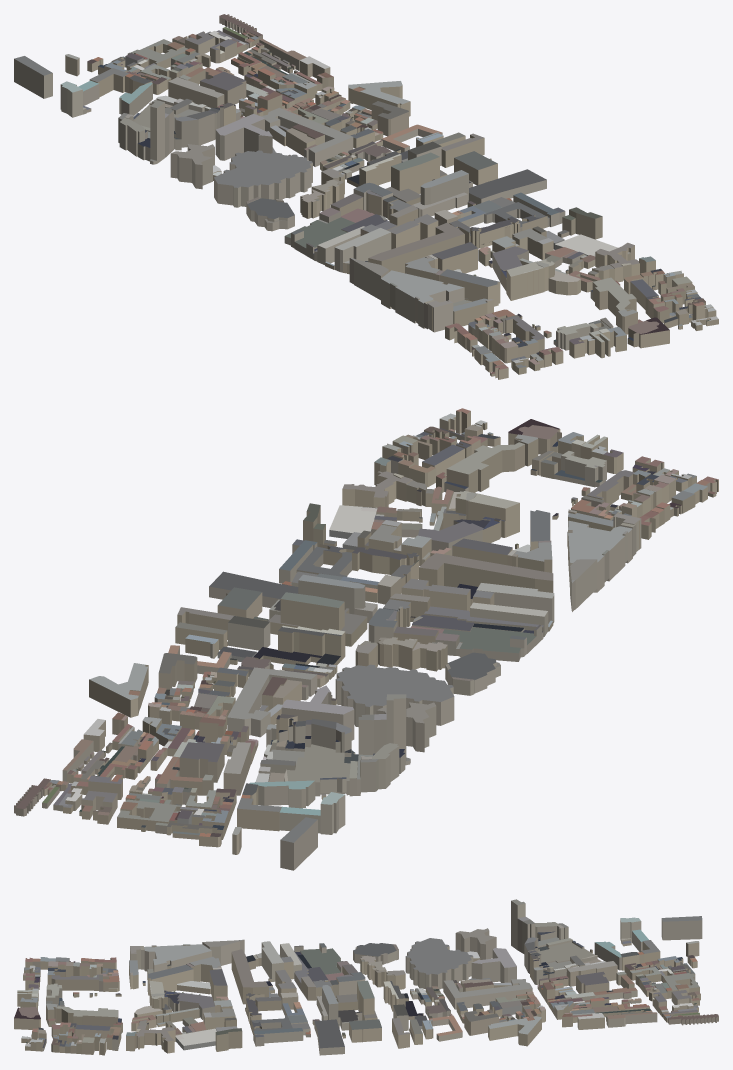
3 views of the same model, one above another, from view 1: azimuth 30°, elevation 25°; view 2: azimuth 150°, elevation 25°; view 3: azimuth 270°, elevation 25° (orthographic). The views are drawn at different scales.
Parts seen in each view (by area): view 1: tuile; view 2: tuile; view 3: tuile.
Part boxes in pixels (x1=…): tuile: x1=14, y1=14, x2=718, y2=379; tuile: x1=14, y1=408, x2=718, y2=870; tuile: x1=14, y1=899, x2=718, y2=1055.
Size of the model in its own units: 410 by 83.84 by 1047.
